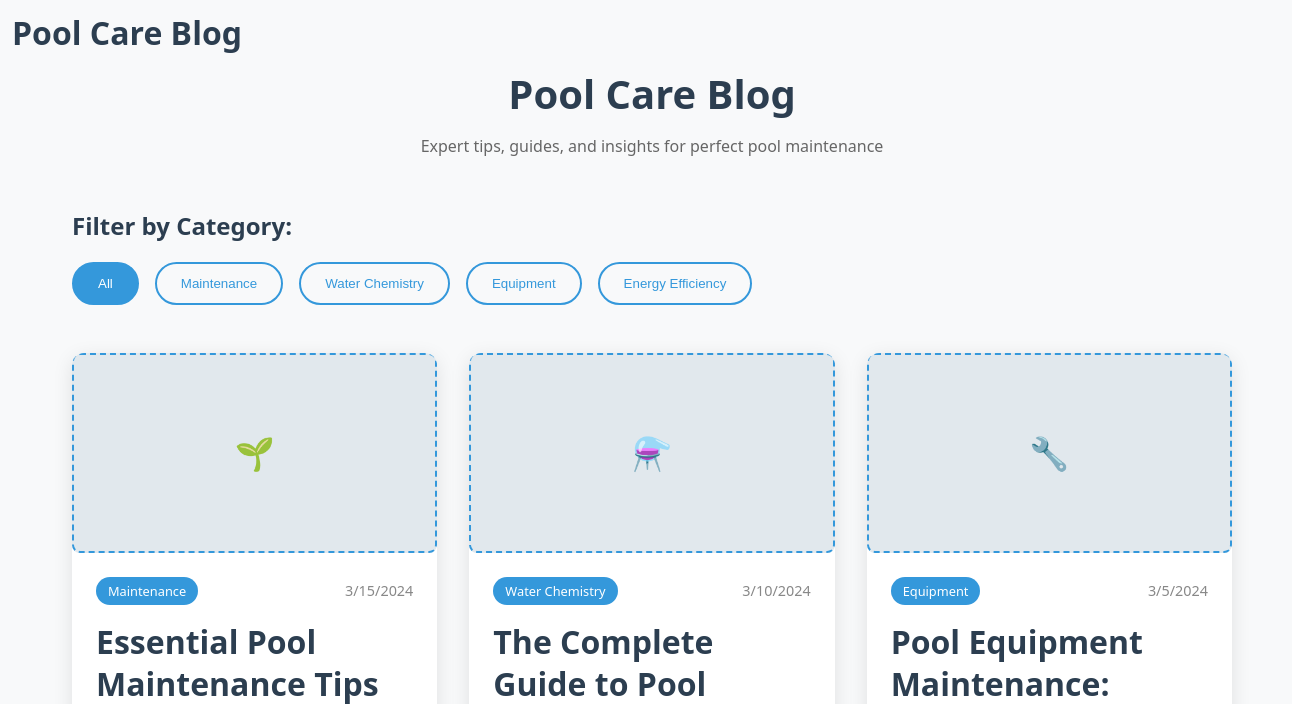
Test: BlogPage › filters posts by category
Click the button "Maintenance" at [219, 283], box [155,262,283,305]
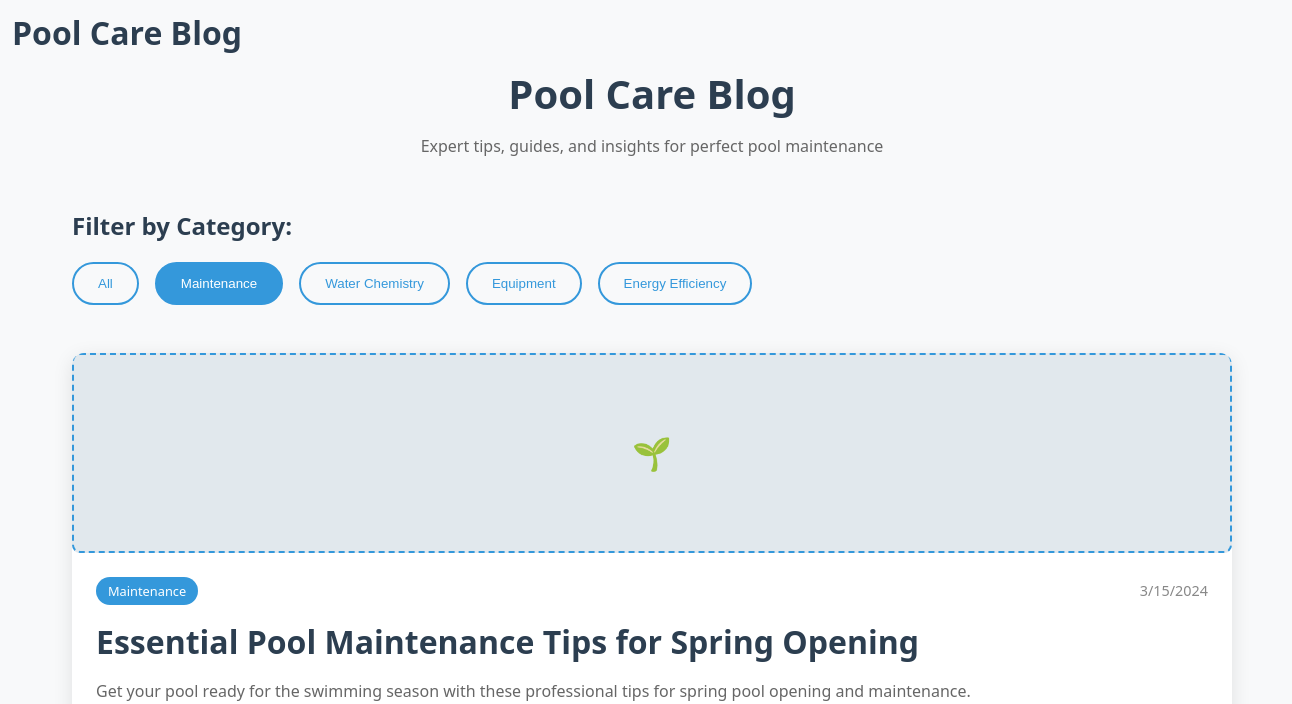
Expected: the text with class "category" reads "Maintenance", [108,582,186,600]
Click the button "All" at [105, 283], box [72,262,139,305]
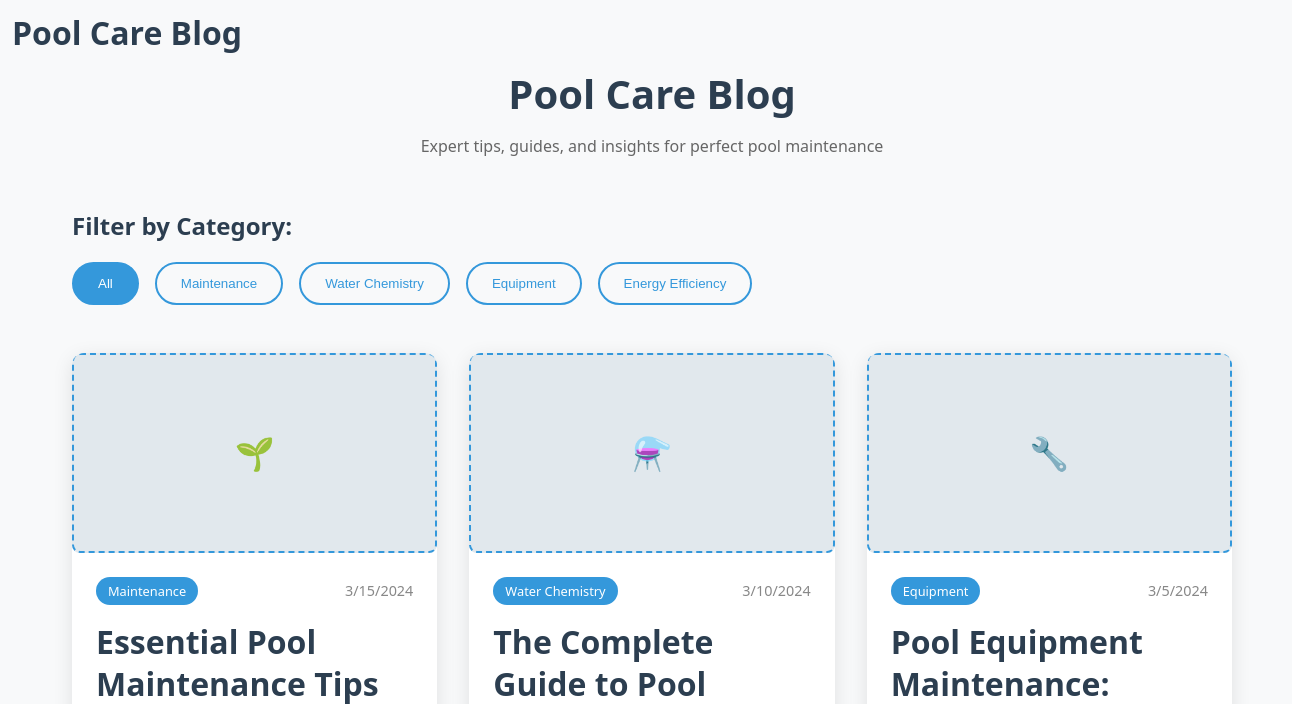
Result: the number of elements with class "blog-card" is 4
